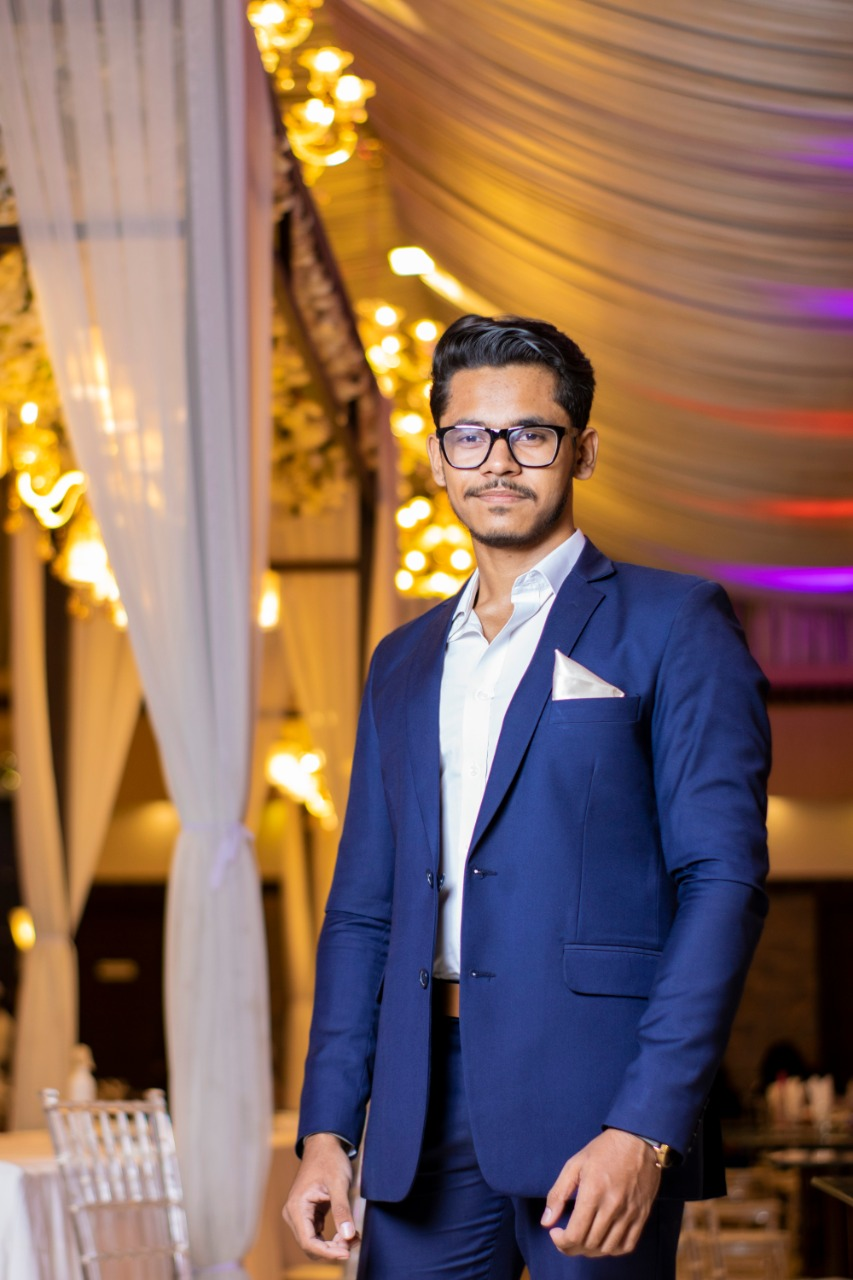NoMask: (446, 416, 566, 545)
